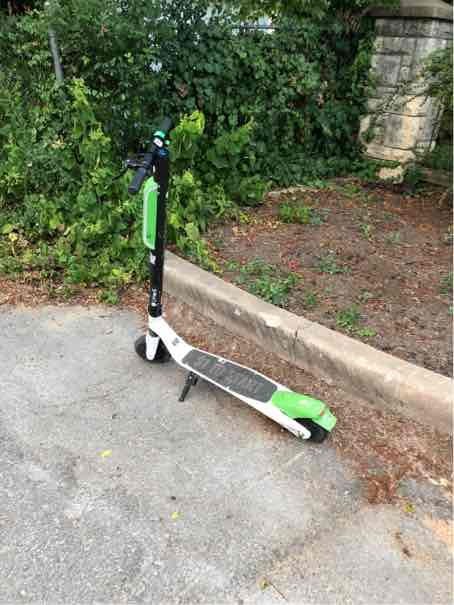scooter: (120, 106, 341, 453)
